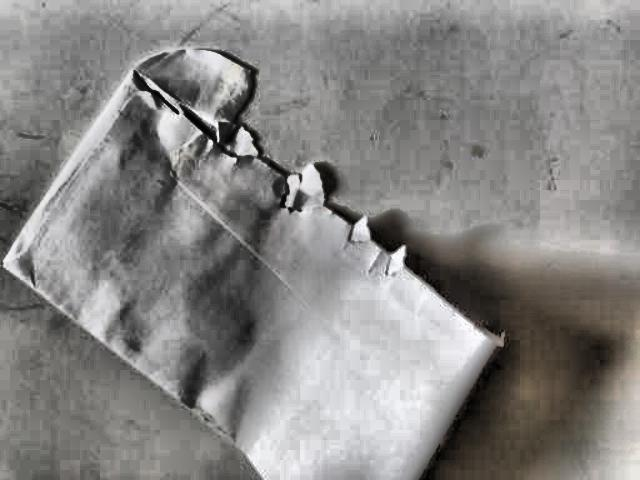Paper: (0, 37, 506, 479)
